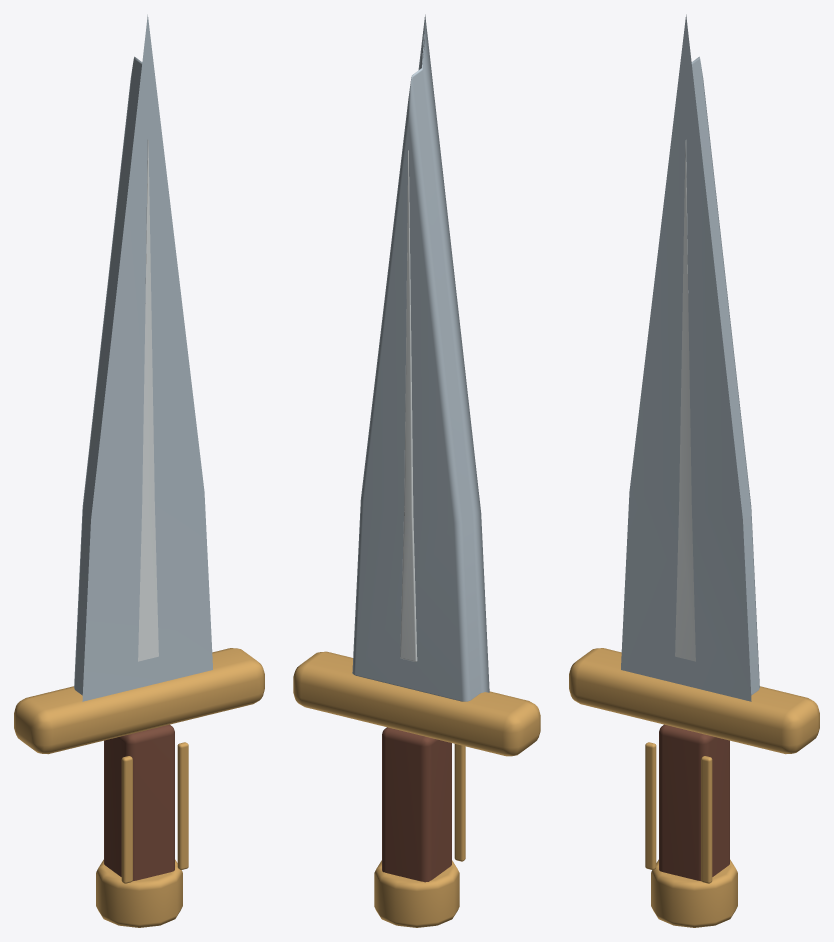
File: fitted_sword.glb
The picture shows the model from 3 angles, left to right: view 1: azimuth 30°, elevation 25°; view 2: azimuth 150°, elevation 25°; view 3: azimuth 330°, elevation 25°; orthographic projection.
Parts seen in each view (by area): view 1: Sword | tapered blade, Sword | guard, Sword | leather grip, Sword | bright edge, Sword | pommel, Sword | grip wire.001, Sword | grip wire; view 2: Sword | tapered blade, Sword | guard, Sword | leather grip, Sword | pommel, Sword | bright edge, Sword | grip wire; view 3: Sword | tapered blade, Sword | guard, Sword | leather grip, Sword | bright edge, Sword | pommel, Sword | grip wire, Sword | grip wire.001.
Part boxes in pixels (box(x1,y1,x2,y2)): Sword | tapered blade: box(74, 14, 212, 701); Sword | guard: box(14, 648, 264, 754); Sword | leather grip: box(104, 724, 174, 881); Sword | bright edge: box(138, 140, 158, 661); Sword | pommel: box(96, 859, 182, 927); Sword | grip wire.001: box(177, 742, 188, 869); Sword | grip wire: box(121, 756, 132, 883); Sword | tapered blade: box(352, 14, 489, 701); Sword | guard: box(293, 651, 540, 756); Sword | leather grip: box(382, 727, 451, 882); Sword | pommel: box(374, 860, 459, 927); Sword | bright edge: box(400, 150, 417, 661); Sword | grip wire: box(454, 744, 465, 861); Sword | tapered blade: box(621, 14, 759, 701); Sword | guard: box(569, 648, 819, 754); Sword | leather grip: box(659, 724, 729, 881); Sword | bright edge: box(675, 140, 695, 661); Sword | pommel: box(651, 859, 737, 927); Sword | grip wire: box(645, 742, 656, 869); Sword | grip wire.001: box(701, 756, 712, 883).
Bounding box in the file's own units: 0.29 × 1.08 × 0.094.
